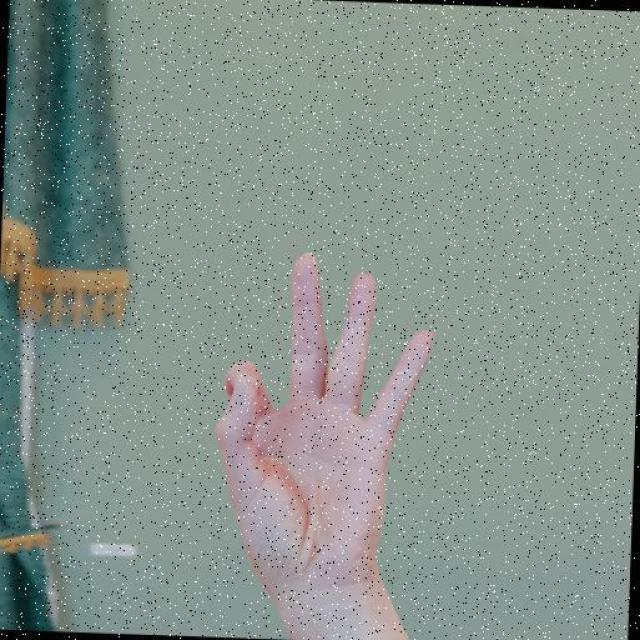F: (209, 245, 442, 609)
